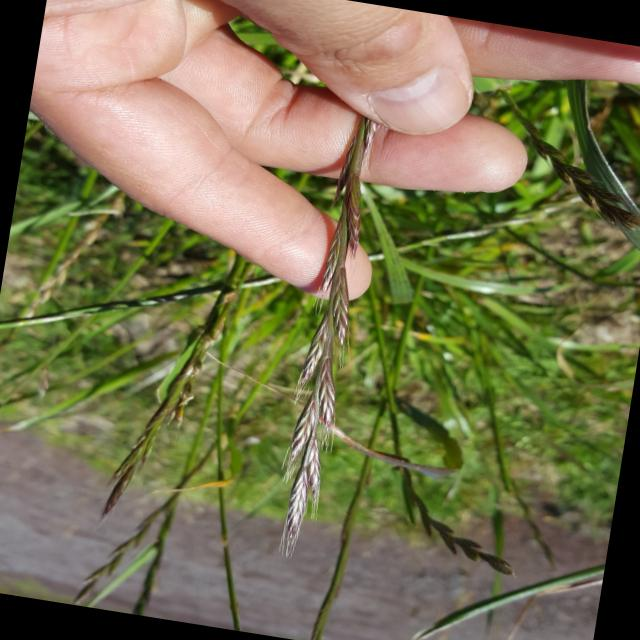Lolium: (318, 194, 568, 574), (262, 111, 390, 566), (80, 242, 260, 552)
